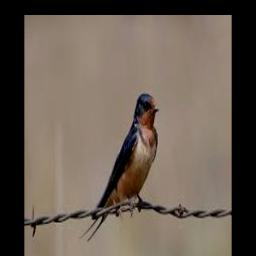Swallow: (79, 94, 160, 240)
